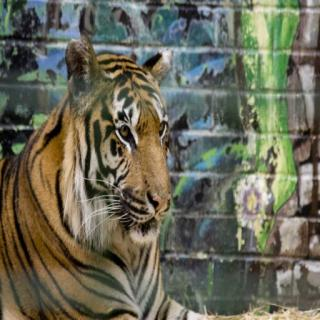Tiger: (0, 22, 233, 320)
